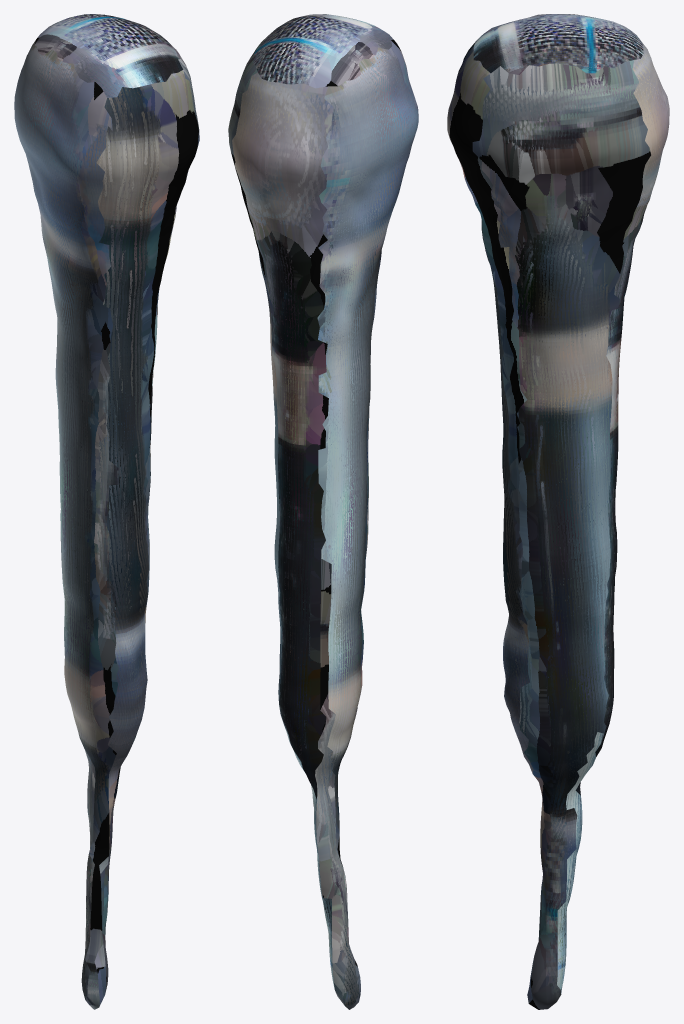
File: image-14_rgba.obj
The picture shows the model from 3 angles, left to right: view 1: azimuth 30°, elevation 25°; view 2: azimuth 150°, elevation 25°; view 3: azimuth 270°, elevation 25°; orthographic projection. The views are drawn at different scales.
Bounding box in the file's own units: 0.2184 × 1.43 × 0.289.
1 material, 1 textured.
